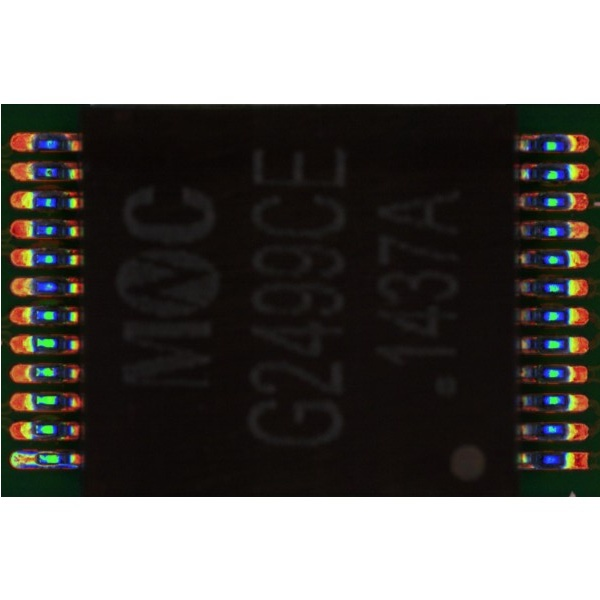Bad_podu: (24, 454, 46, 464)
Bad_qiaojiao: (35, 465, 76, 471)
